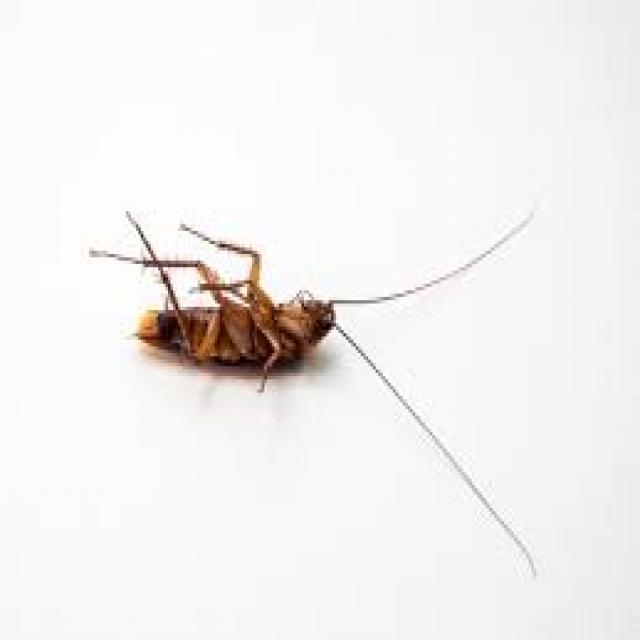Cockroach: (83, 195, 467, 457)
